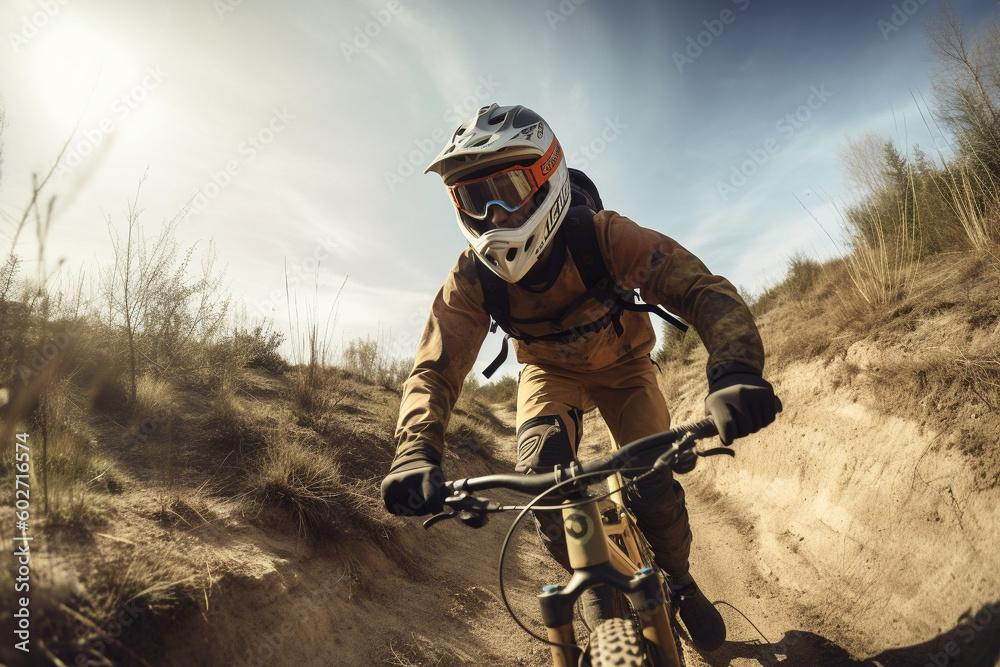helmet: (422, 101, 573, 285)
